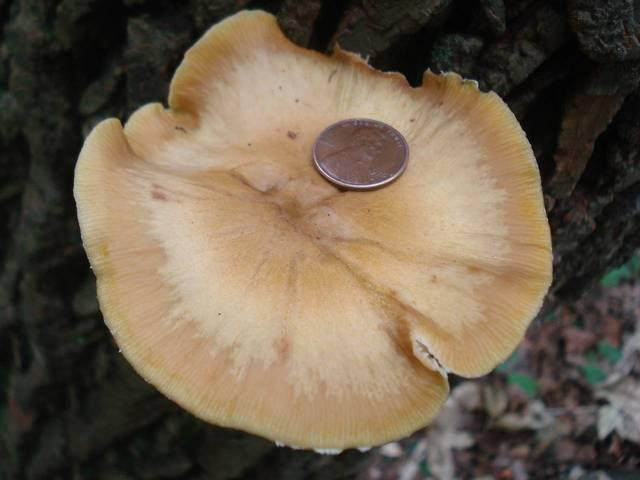edible_mushroom: (71, 7, 554, 454)
